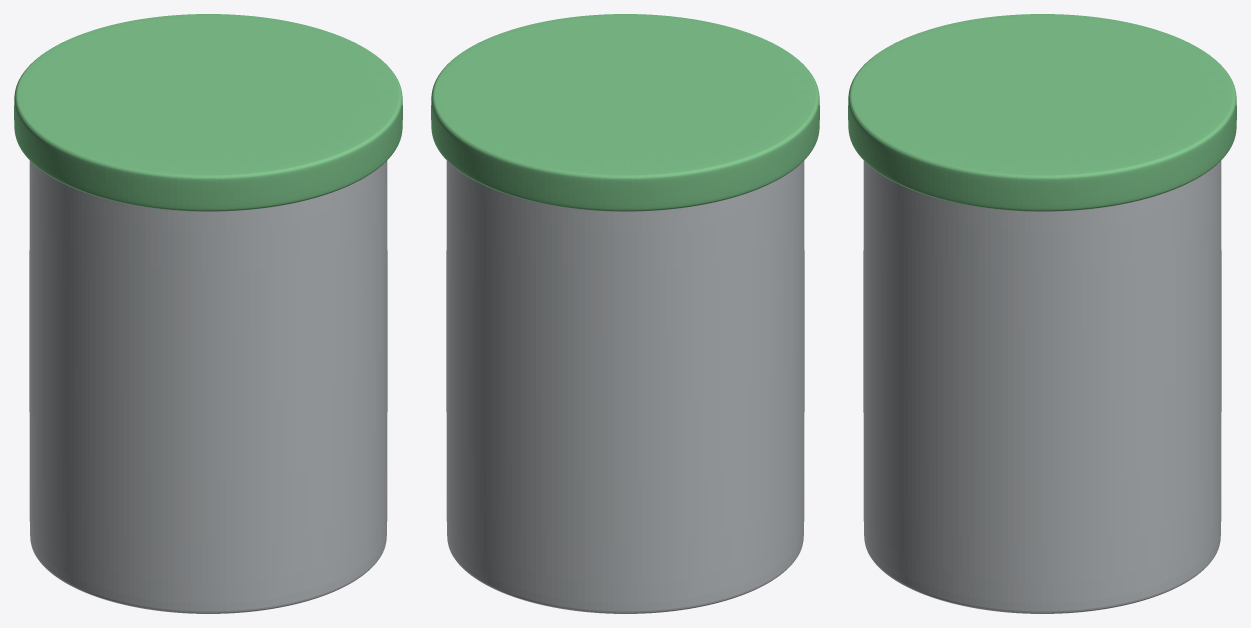
The model's file is Toy_TrashCan_Hi.fbx.
3 views of the same model, side by side, from view 1: azimuth 30°, elevation 25°; view 2: azimuth 150°, elevation 25°; view 3: azimuth 270°, elevation 25° (orthographic).
Visible parts, largest first — view 1: Cylinder, Cylinder.001; view 2: Cylinder, Cylinder.001; view 3: Cylinder, Cylinder.001.
Boxes of the visible parts, <box> form: Cylinder: <box>29,161,387,613</box>; Cylinder.001: <box>14,14,402,211</box>; Cylinder: <box>446,161,804,613</box>; Cylinder.001: <box>431,14,819,211</box>; Cylinder: <box>863,161,1221,613</box>; Cylinder.001: <box>848,14,1236,211</box>.
Bounding box in the file's own units: 0.7577 × 0.96 × 0.7577.
